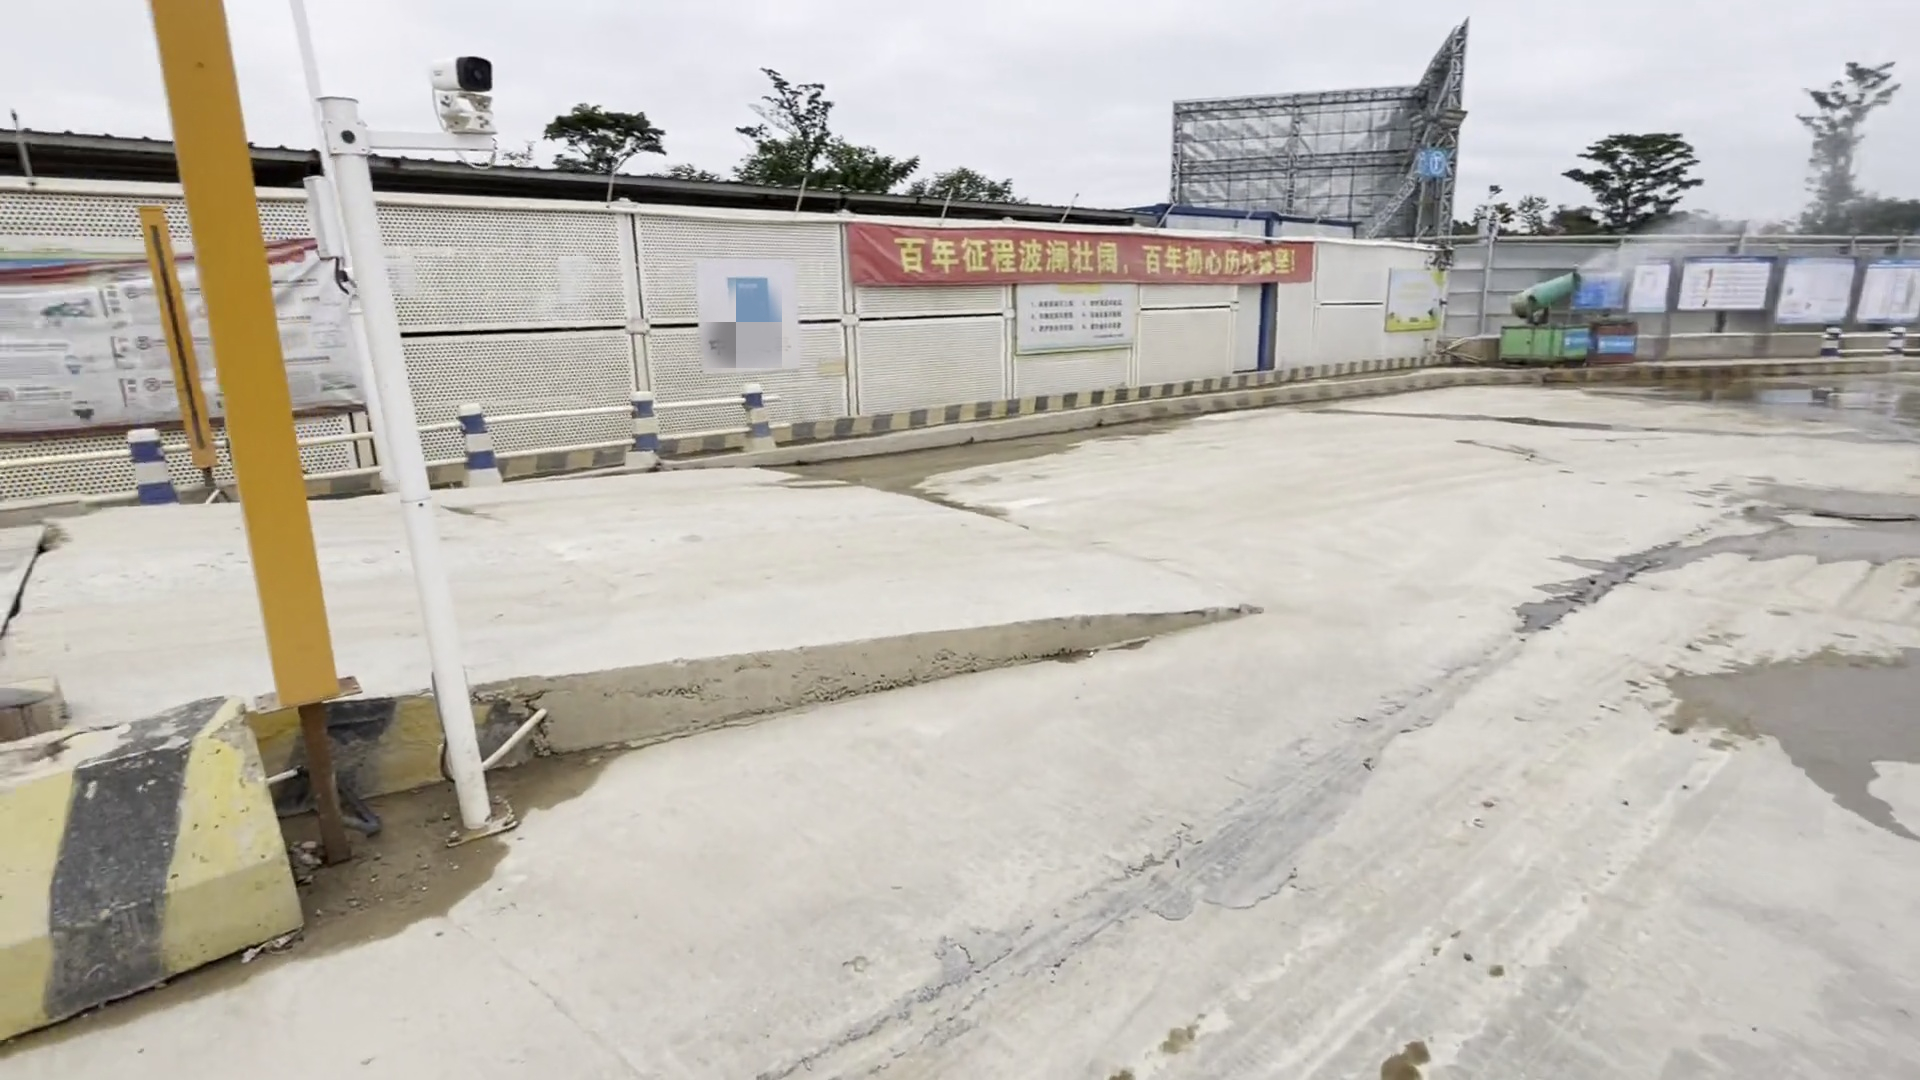slogan: (878, 204, 1325, 285), (1011, 278, 1138, 357)
